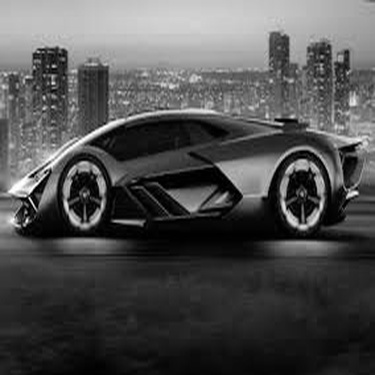car: (4, 100, 369, 246)
